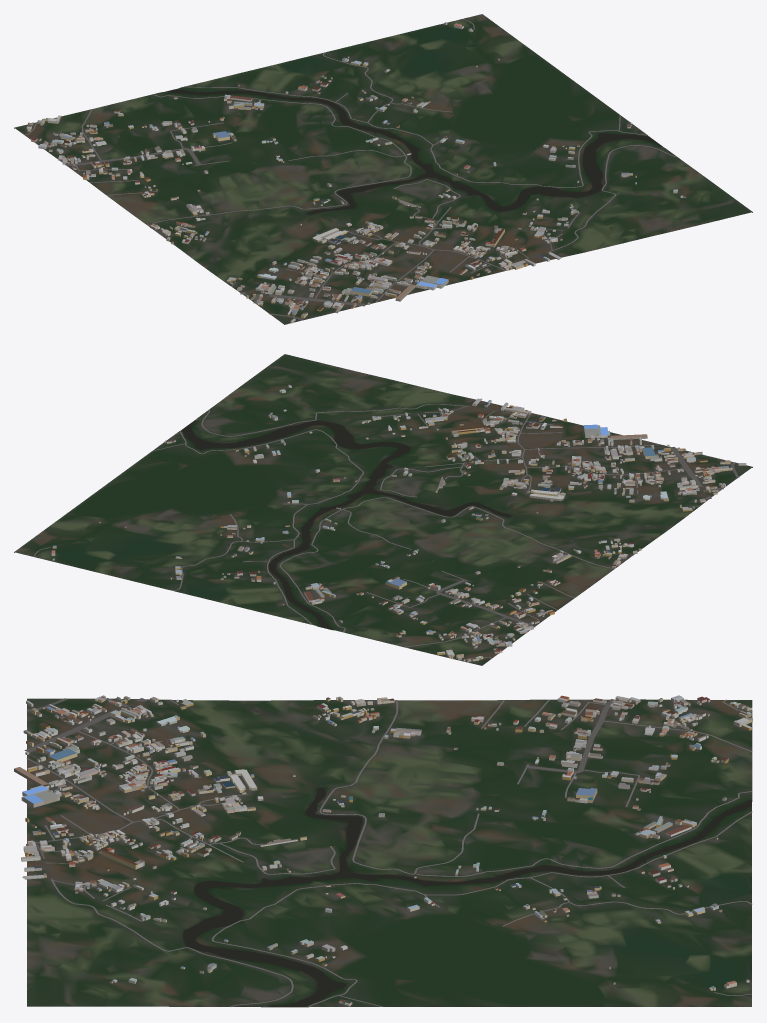
The picture shows the model from 3 angles, top to bottom: view 1: azimuth 30°, elevation 25°; view 2: azimuth 150°, elevation 25°; view 3: azimuth 270°, elevation 25°; orthographic projection. The views are drawn at different scales.
Visible parts, largest first — view 1: ground, buildings, roads, water; view 2: ground, buildings, roads, water; view 3: ground, buildings, roads, water.
Part boxes in pixels (x1=…): ground: x1=14, y1=14, x2=752, y2=324; buildings: x1=26, y1=22, x2=685, y2=323; roads: x1=23, y1=18, x2=676, y2=320; water: x1=165, y1=89, x2=661, y2=214; ground: x1=14, y1=354, x2=752, y2=665; buildings: x1=51, y1=384, x2=746, y2=662; roads: x1=33, y1=404, x2=739, y2=660; water: x1=181, y1=420, x2=510, y2=629; ground: x1=27, y1=698, x2=752, y2=1007; buildings: x1=14, y1=695, x2=752, y2=1006; roads: x1=24, y1=698, x2=752, y2=1006; water: x1=183, y1=787, x2=751, y2=1006.
Bounding box in the file's own units: 1409 × 17.18 × 1427.
